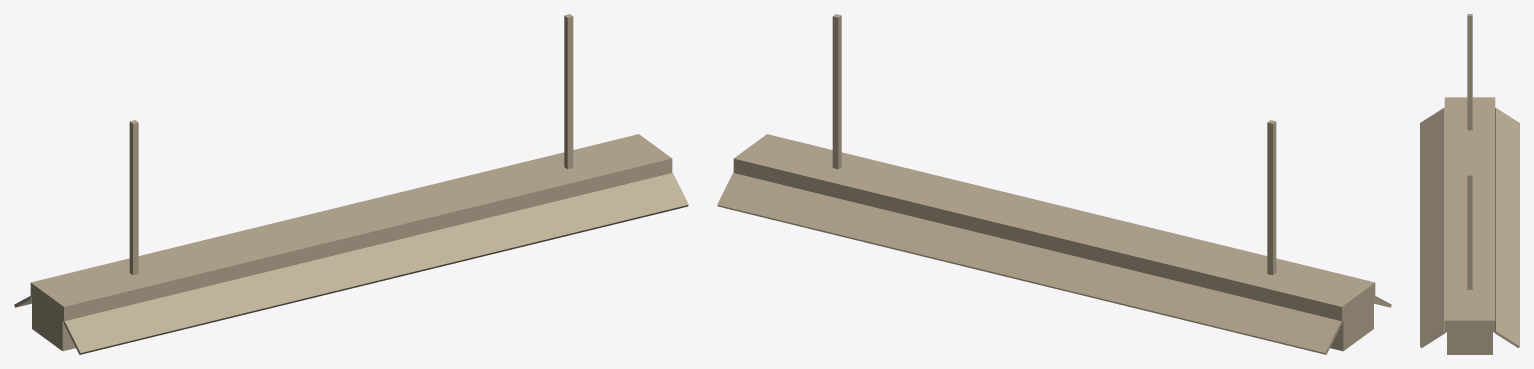
File: light-fitting.glb
3 renders of one model, left to right at view 1: azimuth 30°, elevation 25°; view 2: azimuth 150°, elevation 25°; view 3: azimuth 270°, elevation 25°, orthographic. The views are drawn at different scales.
Parts seen in each view (by area): view 1: light-fitting; view 2: light-fitting; view 3: light-fitting.
Boxes of the visible parts, <box> form: light-fitting: <box>14,14,688,354</box>; light-fitting: <box>717,14,1391,354</box>; light-fitting: <box>1420,14,1519,354</box>.
Size of the model in its own units: 1.26 by 0.39 by 0.2381.
